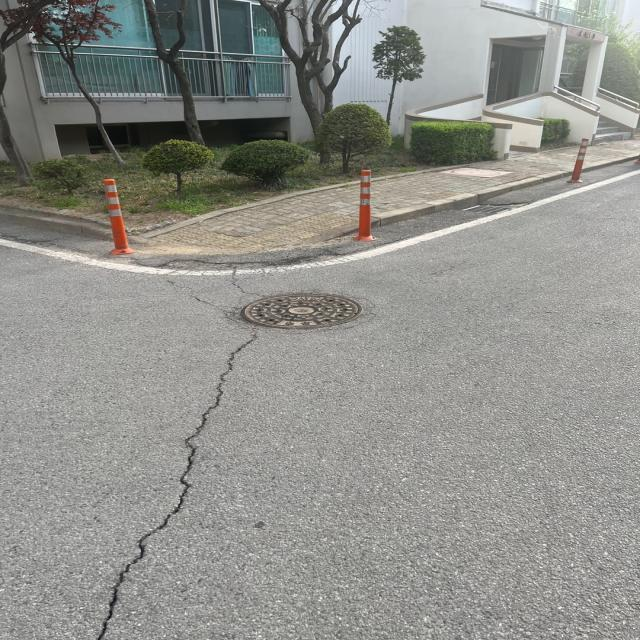manhole: (242, 294, 361, 328)
